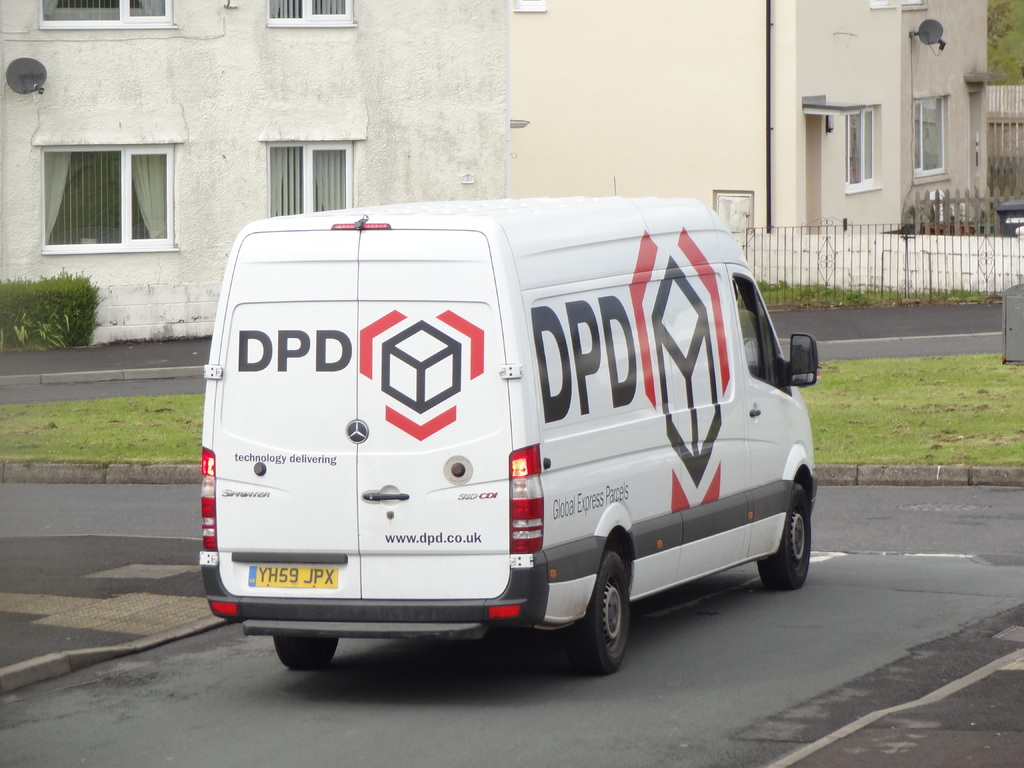license plate: (247, 564, 339, 589)
